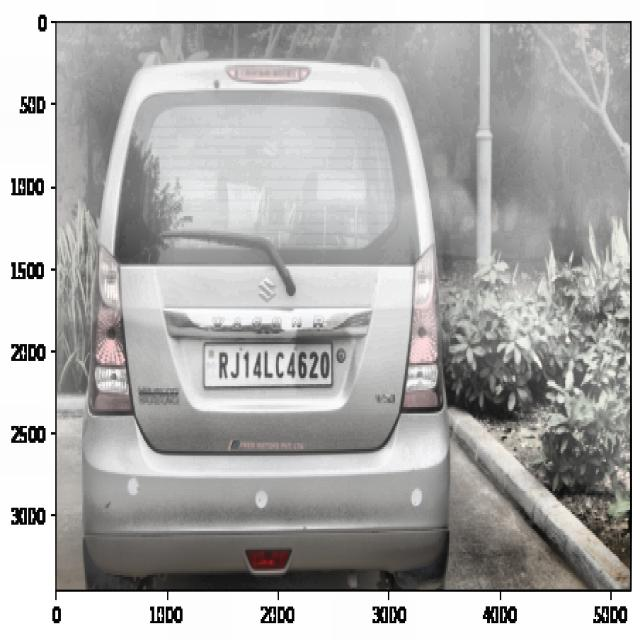license_plate: (212, 345, 334, 388)
